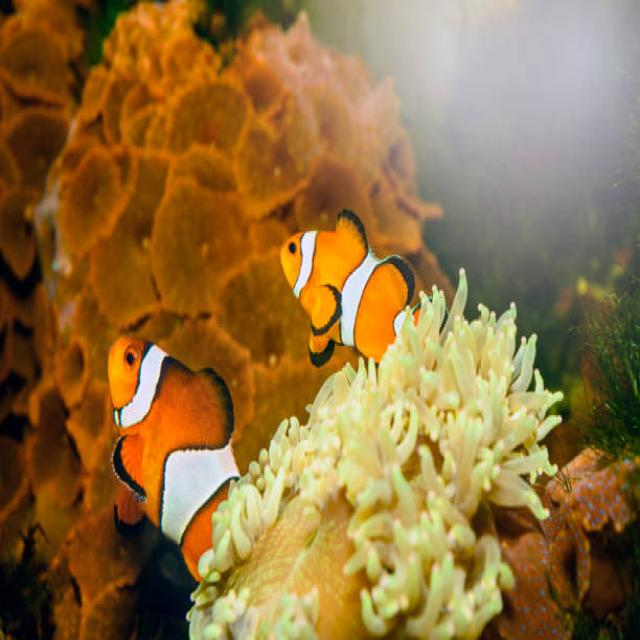ClownFish: (112, 333, 244, 579), (275, 210, 448, 372)
